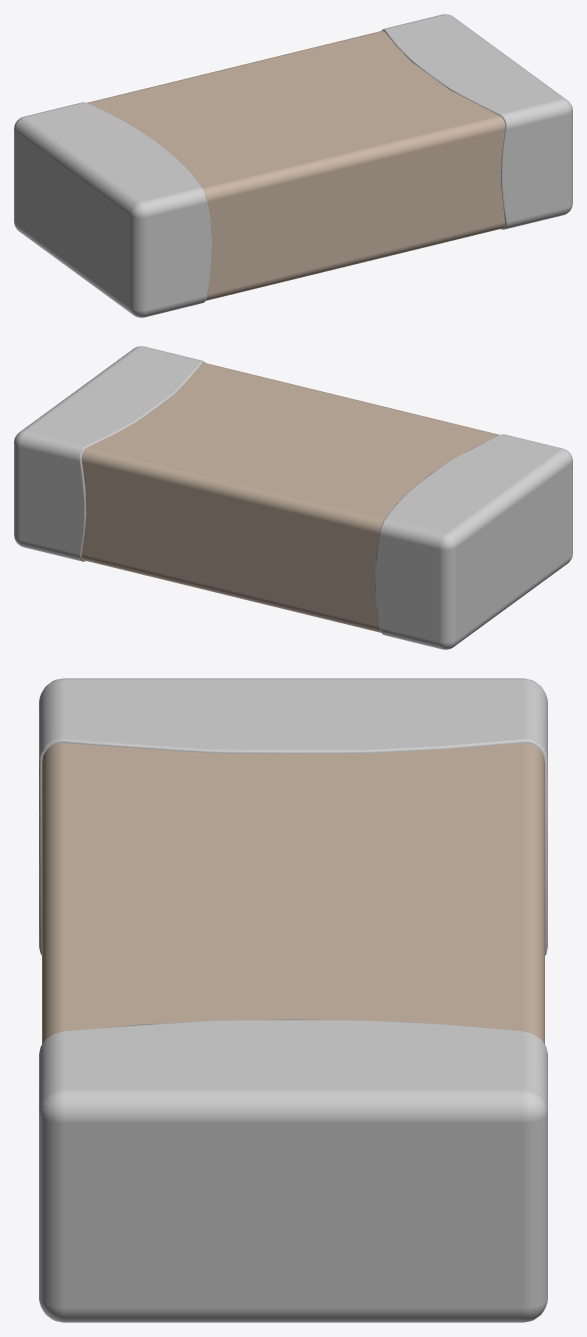
3 renders of one model, top to bottom at view 1: azimuth 30°, elevation 25°; view 2: azimuth 150°, elevation 25°; view 3: azimuth 270°, elevation 25°, orthographic. The views are drawn at different scales.
Visible parts, largest first — view 1: CeramicBody, Pin1, Pin2; view 2: CeramicBody, Pin1, Pin2; view 3: Pin2, CeramicBody, Pin1.
Part boxes in pixels (x1,y1,x2,y2): CeramicBody: [87, 30, 505, 300]; Pin1: [14, 102, 211, 317]; Pin2: [381, 14, 572, 229]; CeramicBody: [81, 362, 499, 632]; Pin1: [375, 434, 572, 649]; Pin2: [14, 346, 204, 561]; Pin2: [39, 1019, 547, 1322]; CeramicBody: [42, 743, 544, 1044]; Pin1: [39, 678, 547, 955].
Size of the model in its own units: 0.0032 by 0.0008 by 0.0016.
